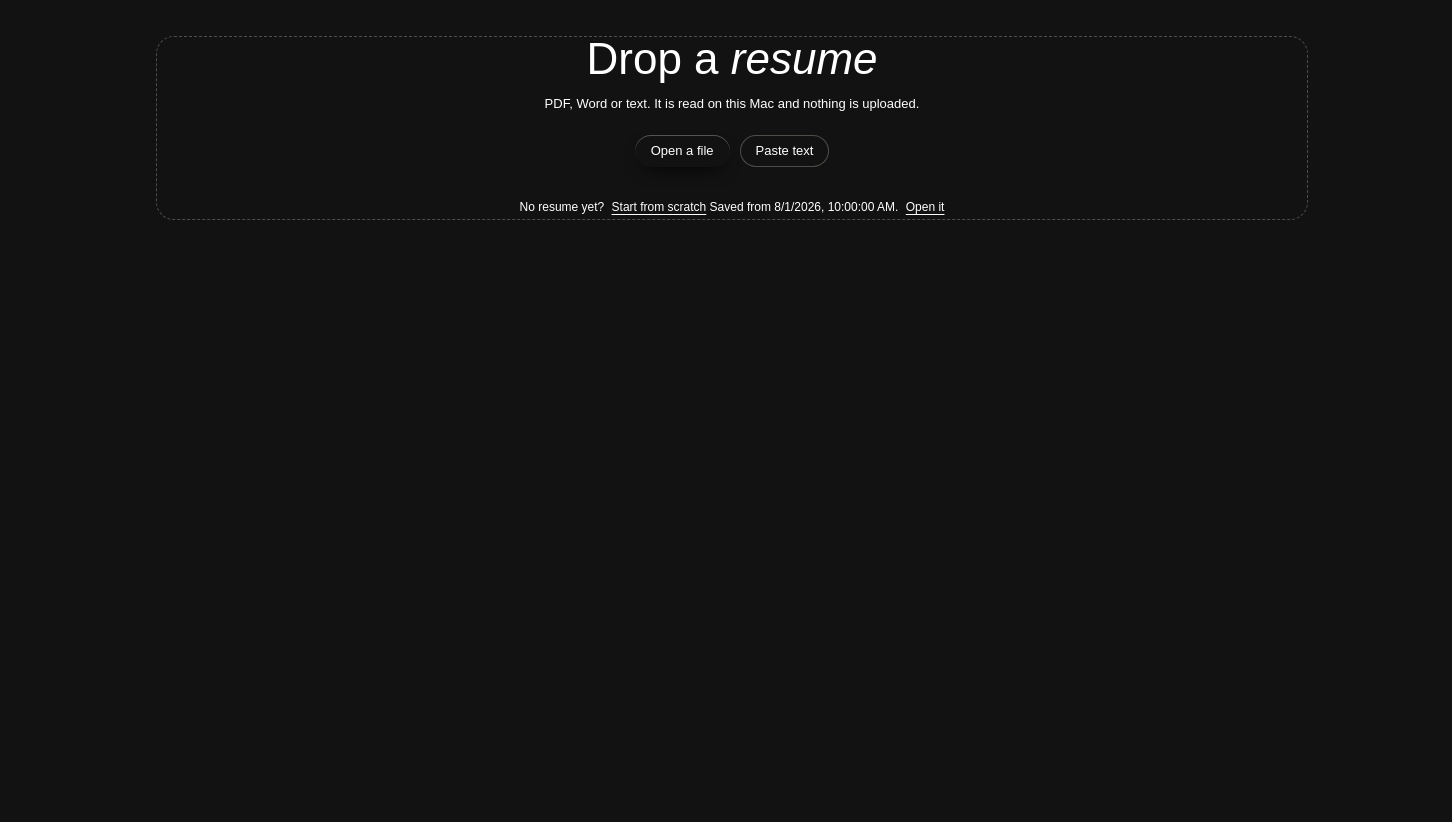
Resume editor › retries an edit when the save fails
This screenshot has width=1452, height=822.
Expected: the text "Saved from" is shown, x1=710 y1=200 x2=774 y2=214
Click the button "Open it" at (925, 207), box x1=906 y1=195 x2=944 y2=219
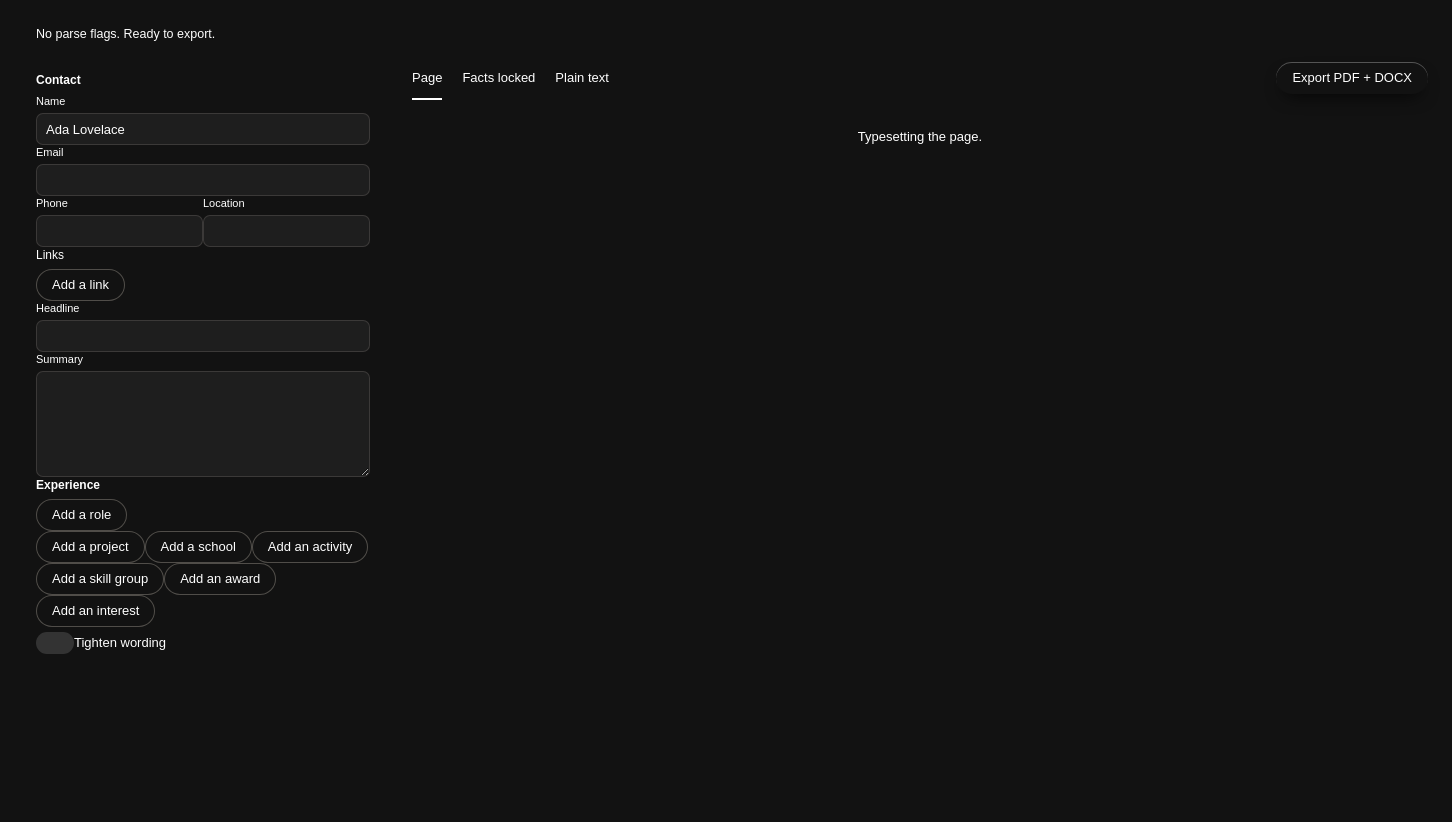
Type "Analyst" into the field labelled "Headline" at (203, 336), box x1=36 y1=320 x2=370 y2=352
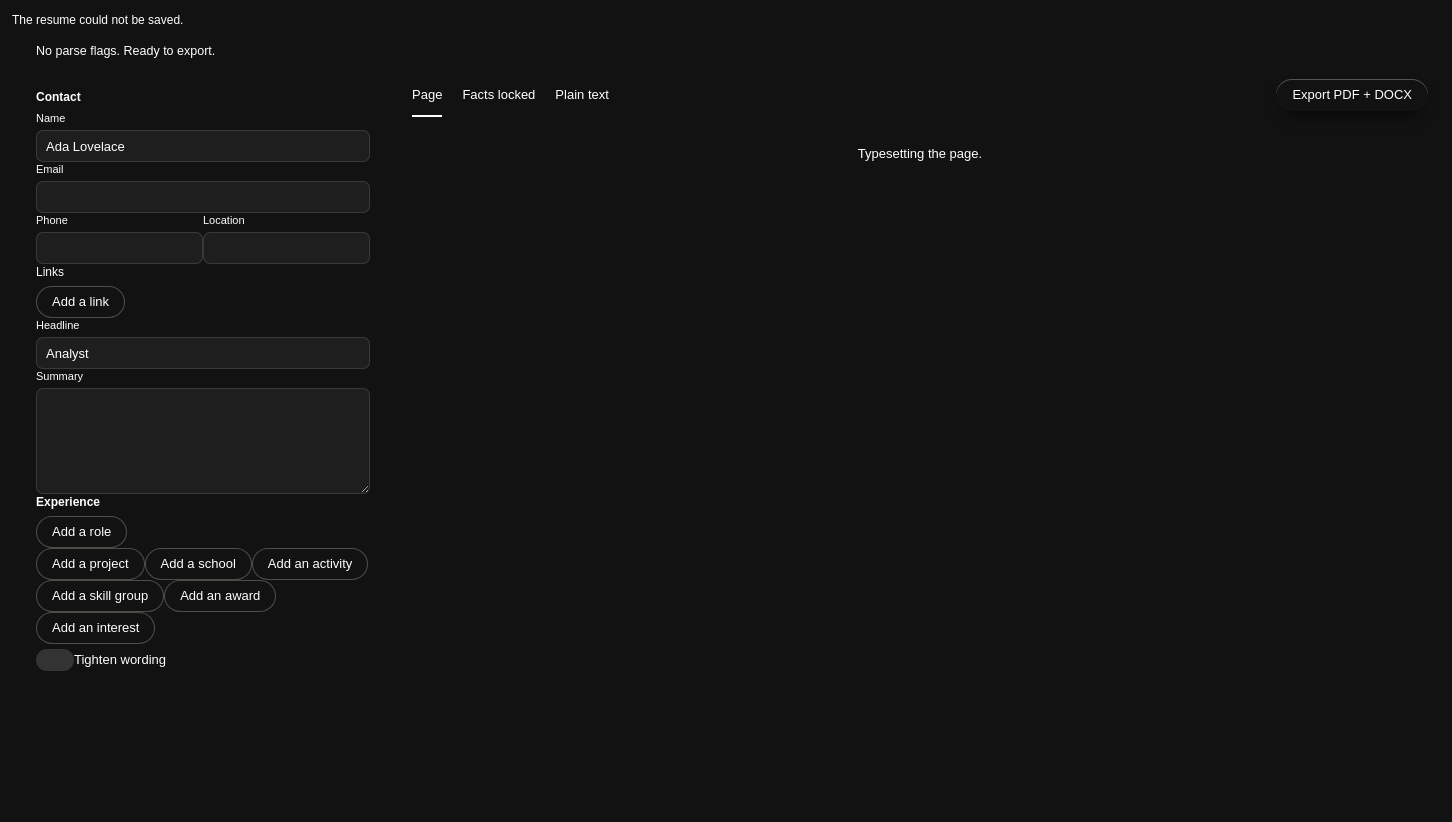
Expected: the text "The resume could not be saved." is shown, x1=12 y1=13 x2=183 y2=27
